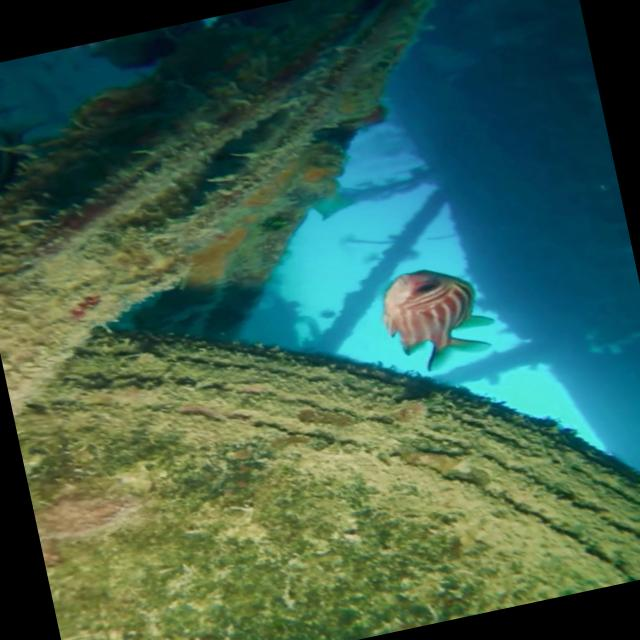Asker Baligi: (372, 254, 505, 379)
